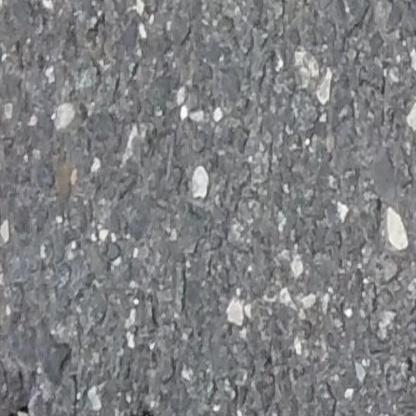Cracks: (0, 402, 49, 416), (78, 410, 164, 416), (403, 397, 416, 416)
